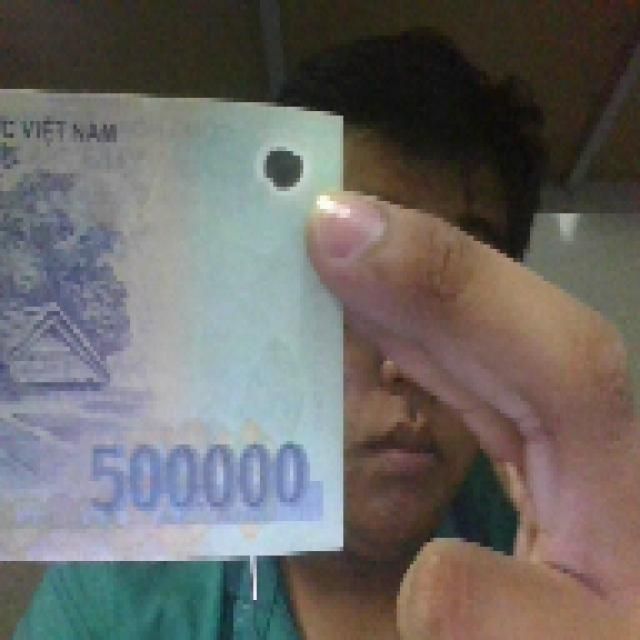500 000 VND: (0, 80, 350, 564)
